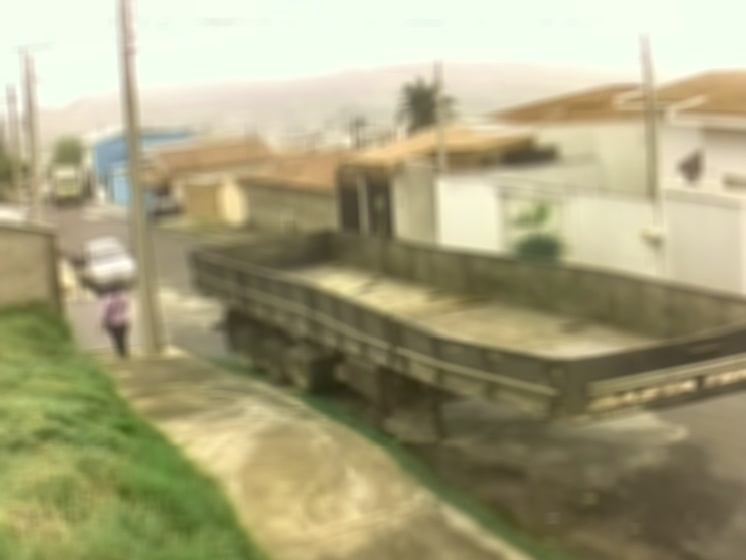person: (96, 282, 135, 360)
